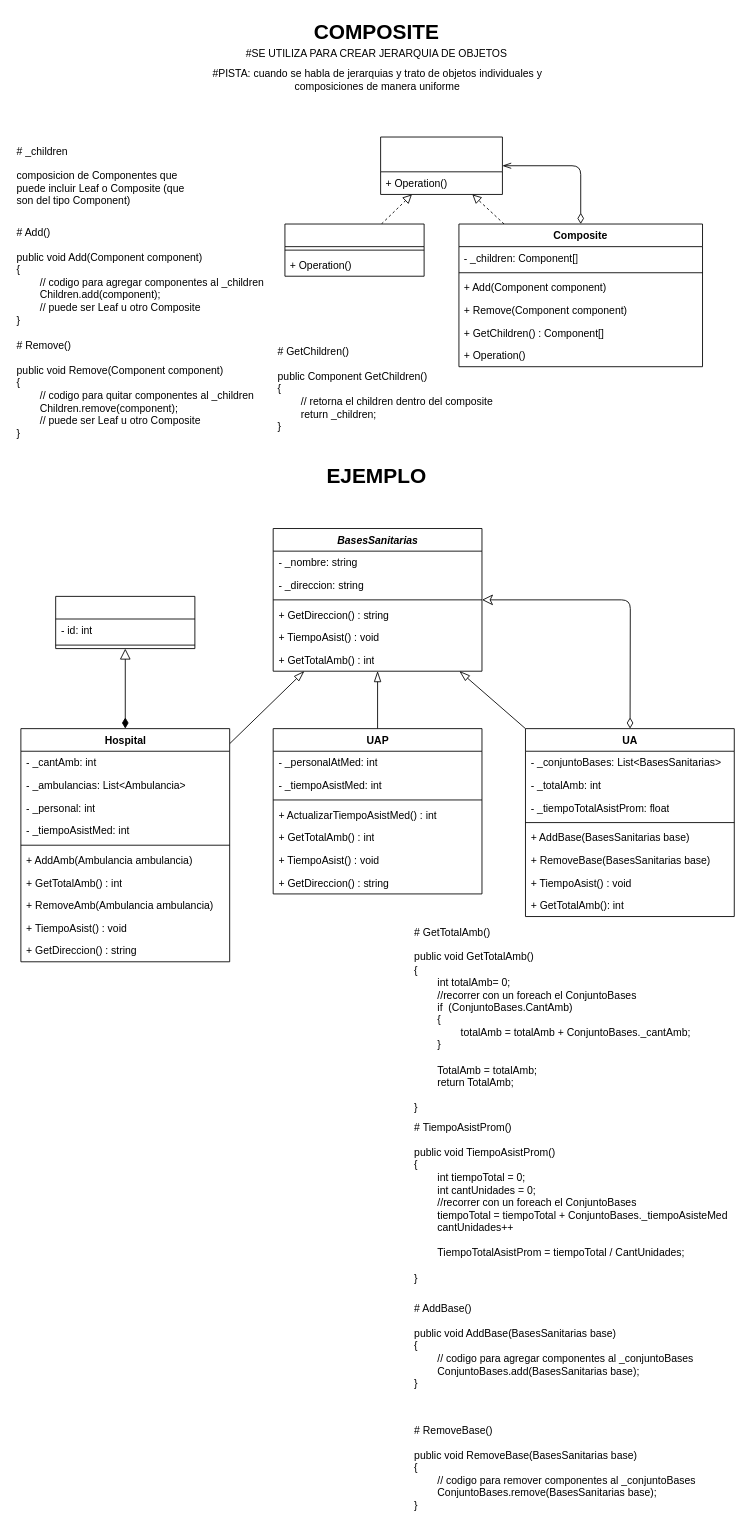
Image size: 749x1535. Some labels were removed from this diagram. Each missing label, with the box of its shape:
<<interface or abstract>> Component: (380, 136, 502, 194)
Ambulancia: (55, 596, 195, 649)
Leaf: (284, 223, 424, 276)
